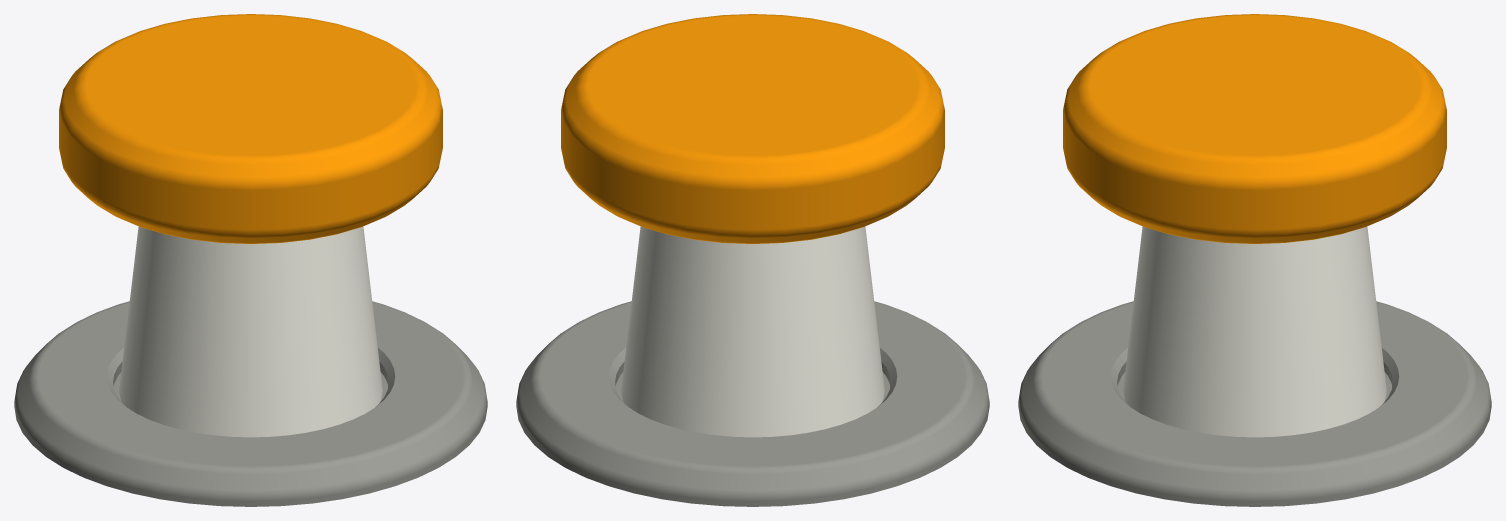
Rendered from Joystick or Button #1.fbx.
3 views of the same model, side by side, from view 1: azimuth 30°, elevation 25°; view 2: azimuth 150°, elevation 25°; view 3: azimuth 270°, elevation 25° (orthographic).
Parts seen in each view (by area): view 1: kitbash_47; view 2: kitbash_47; view 3: kitbash_47.
Part boxes in pixels (<box>): kitbash_47: <box>14,14,487,506</box>; kitbash_47: <box>516,14,989,506</box>; kitbash_47: <box>1018,14,1491,506</box>.
Bounding box in the file's own units: 7.4 × 5.55 × 7.4.
